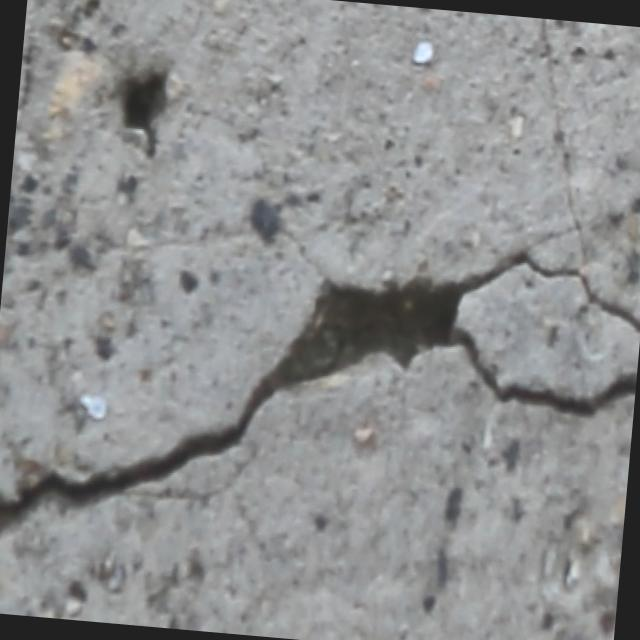crack: (0, 200, 640, 597), (517, 18, 640, 245), (111, 62, 176, 163)
